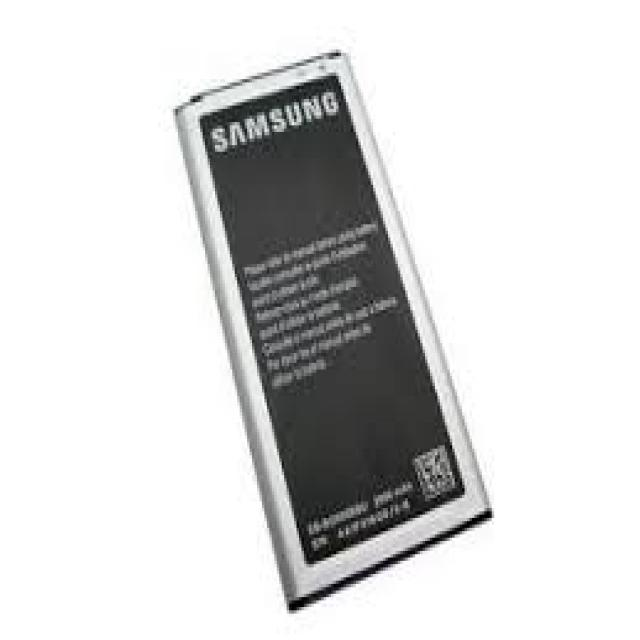non-organic waste: (171, 54, 491, 612)
